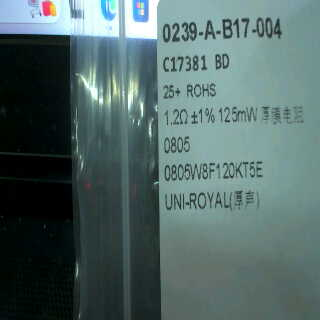1.2R: (161, 106, 191, 159)
